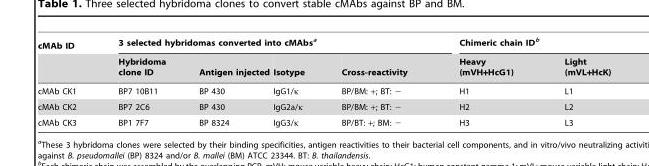table: (37, 36, 610, 127)
table column: (322, 36, 432, 127), (432, 36, 538, 127), (181, 36, 270, 127), (96, 36, 181, 127), (538, 36, 610, 127), (37, 36, 96, 127), (270, 36, 322, 127)
table column header: (37, 36, 610, 80)
table row: (37, 53, 610, 80), (37, 36, 610, 53), (37, 80, 610, 97), (37, 97, 610, 113), (37, 113, 610, 127)
table spanning cell: (96, 36, 432, 53), (432, 36, 610, 53), (37, 36, 96, 80)
